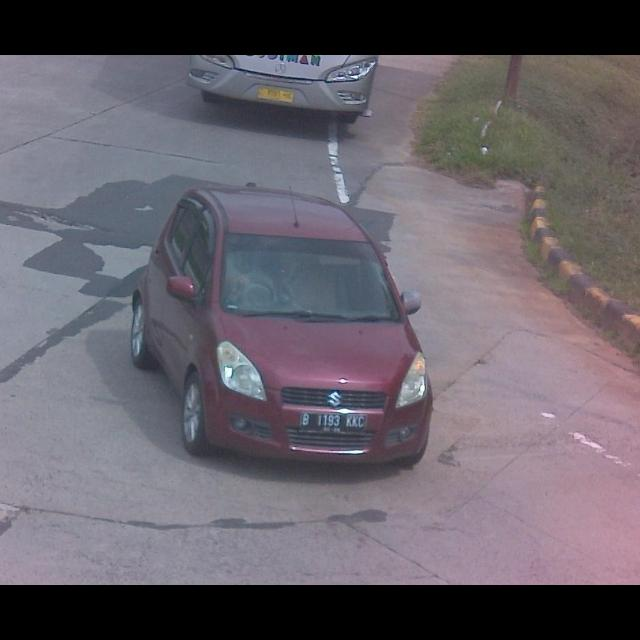plate: (300, 410, 366, 432)
